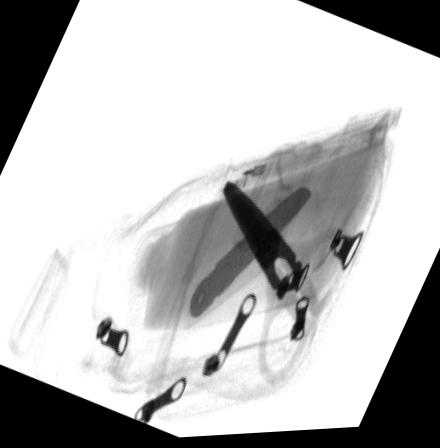Knife: (187, 190, 313, 322)
Scissors: (221, 182, 348, 386)
